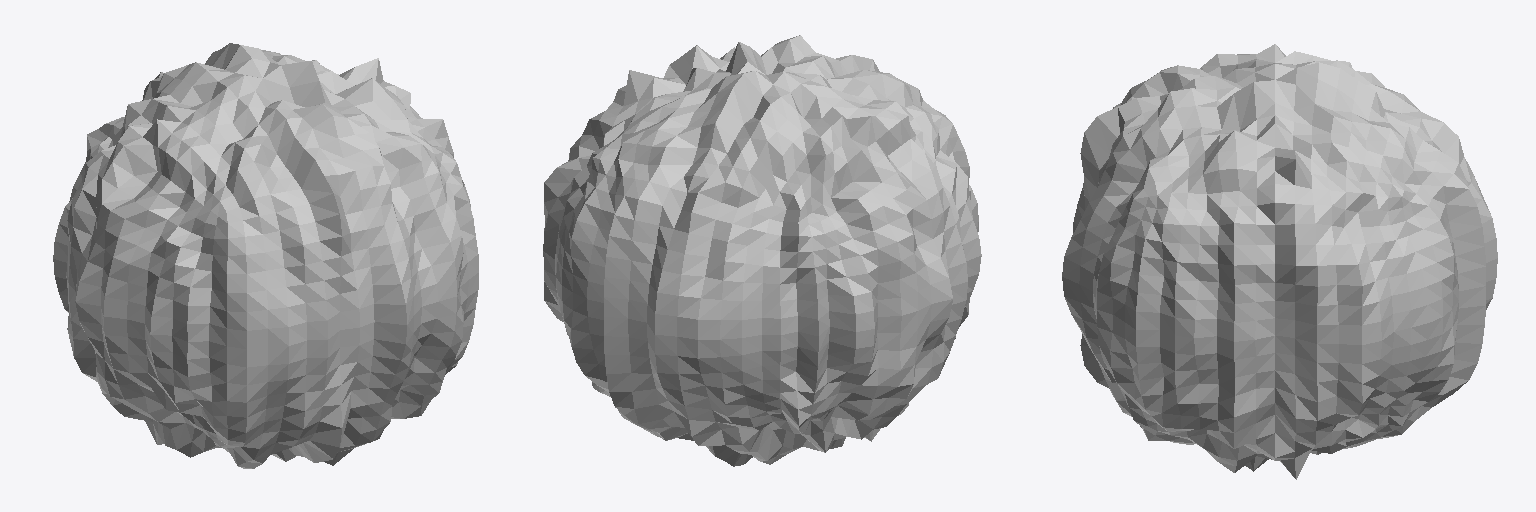
Rendered from asteroid41.obj.
The picture shows the model from 3 angles: view 1: azimuth 30°, elevation 25°; view 2: azimuth 150°, elevation 25°; view 3: azimuth 270°, elevation 25°; orthographic projection.
Parts seen in each view (by area): view 1: Cube_Cube.002; view 2: Cube_Cube.002; view 3: Cube_Cube.002.
Part boxes in pixels (left/top/right/bottom): Cube_Cube.002: left=53, top=43, right=478, bottom=468; Cube_Cube.002: left=543, top=35, right=981, bottom=466; Cube_Cube.002: left=1062, top=44, right=1497, bottom=479.
Bounding box in the file's own units: 1.72 × 1.76 × 1.77.